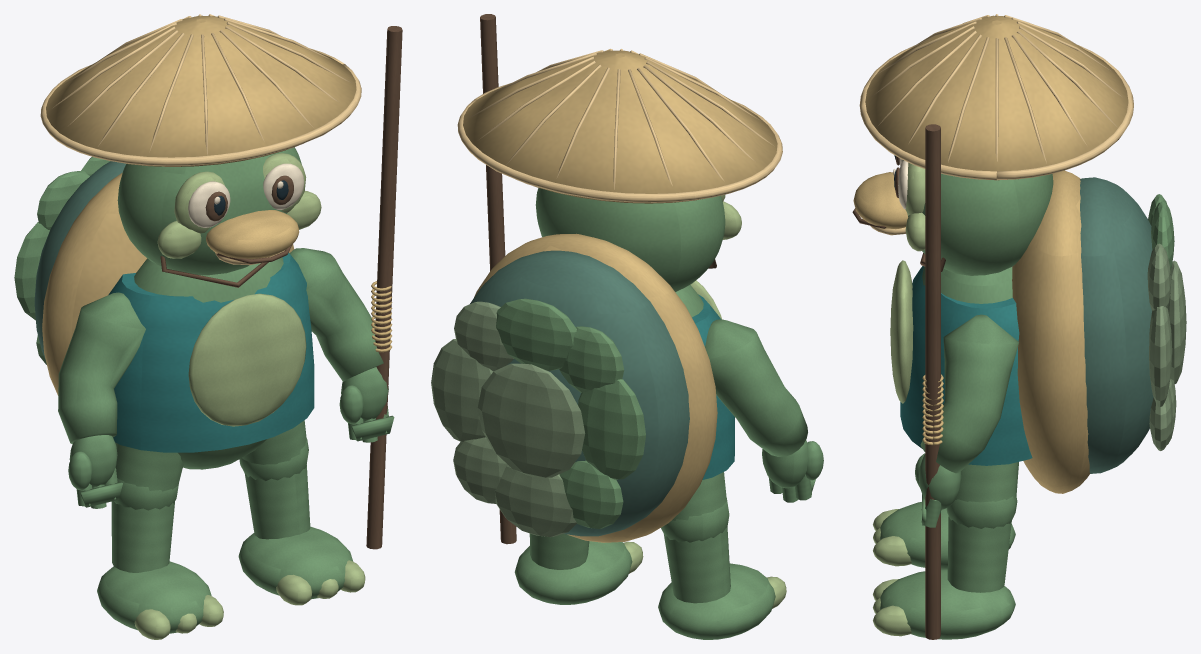
File: kappa.glb
3 renders of one model, left to right at view 1: azimuth 30°, elevation 25°; view 2: azimuth 150°, elevation 25°; view 3: azimuth 270°, elevation 25°, orthographic.
Parts seen in each view (by area): view 1: kappa; view 2: kappa; view 3: kappa.
Part boxes in pixels (x1,y1,x2,y2): kappa: (14, 14, 402, 639); kappa: (431, 14, 823, 639); kappa: (852, 14, 1186, 639).
Bounding box in the file's own units: 1.13 × 1.84 × 0.969.
1 material, 1 textured.
